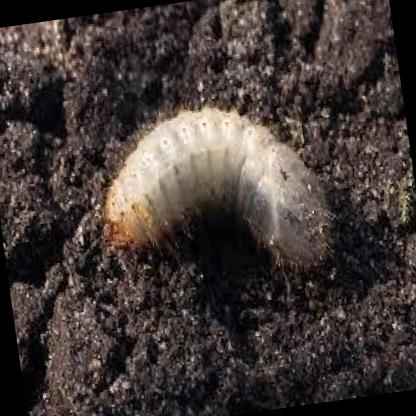root grubs: (101, 101, 329, 275)
